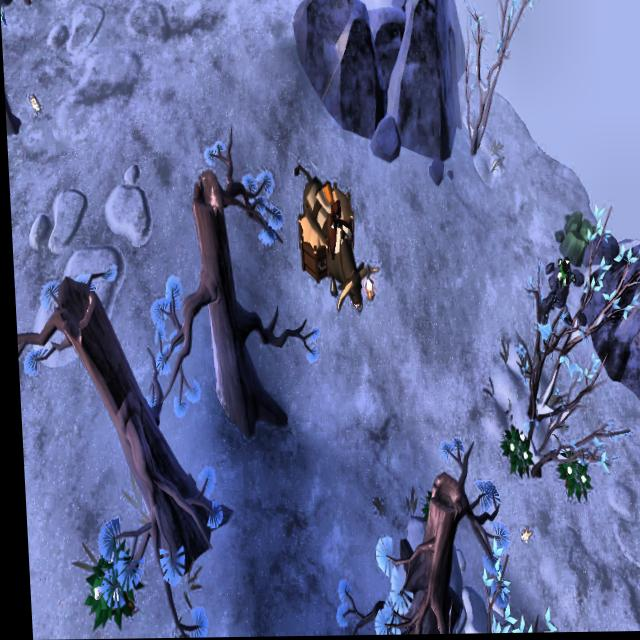fiber_t3: (77, 549, 134, 628), (494, 423, 529, 478), (551, 456, 588, 503)
rock_t3: (554, 206, 595, 268)
